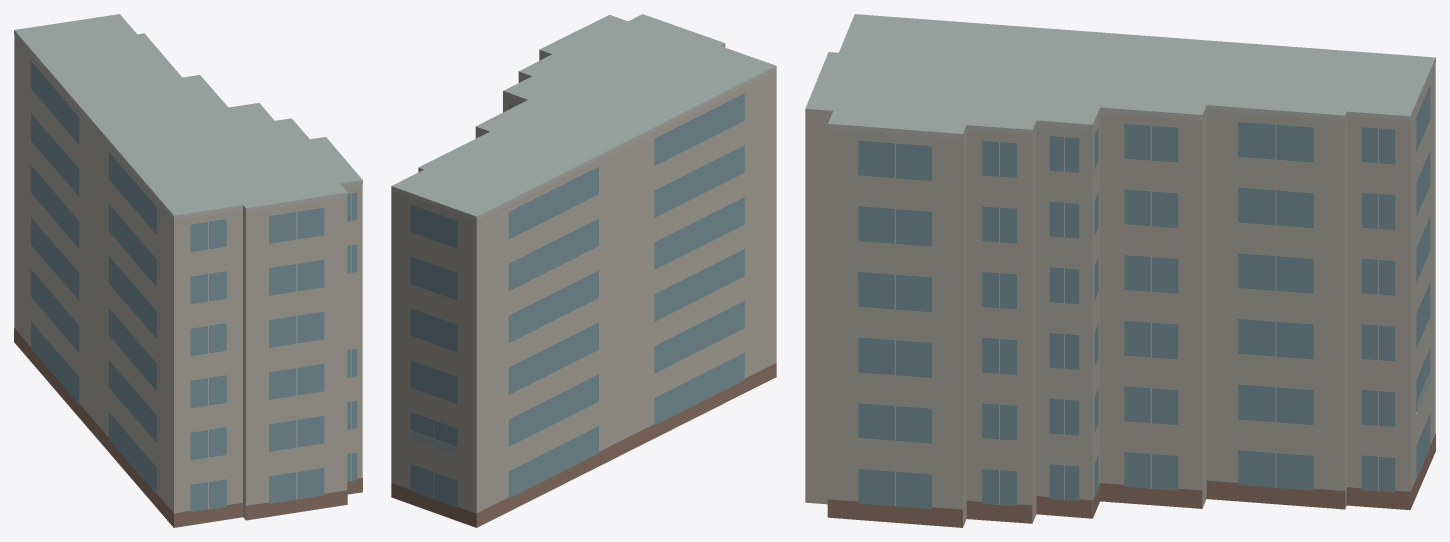
File: survey-upis-33046542.glb
3 views of the same model, side by side, from view 1: azimuth 30°, elevation 25°; view 2: azimuth 150°, elevation 25°; view 3: azimuth 270°, elevation 25° (orthographic). The views are drawn at different scales.
Parts seen in each view (by area): view 1: survey-upis-33046542.tmp; view 2: survey-upis-33046542.tmp; view 3: survey-upis-33046542.tmp.
Boxes of the visible parts, box(x1,y1,x2,y2) form: survey-upis-33046542.tmp: box(14, 14, 362, 527); survey-upis-33046542.tmp: box(391, 14, 776, 527); survey-upis-33046542.tmp: box(805, 14, 1435, 527).
Size of the model in its own units: 11.97 by 18.3 by 26.56.
